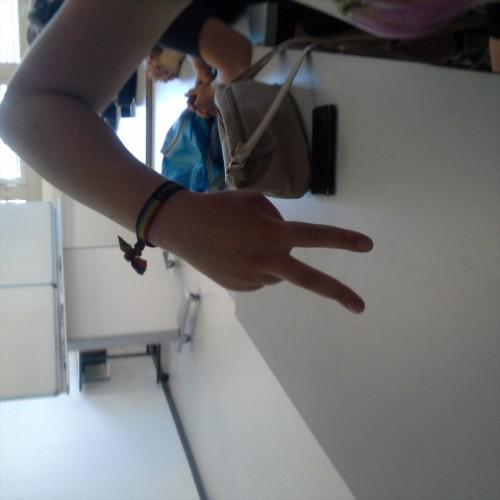scissors: (154, 185, 379, 327)
